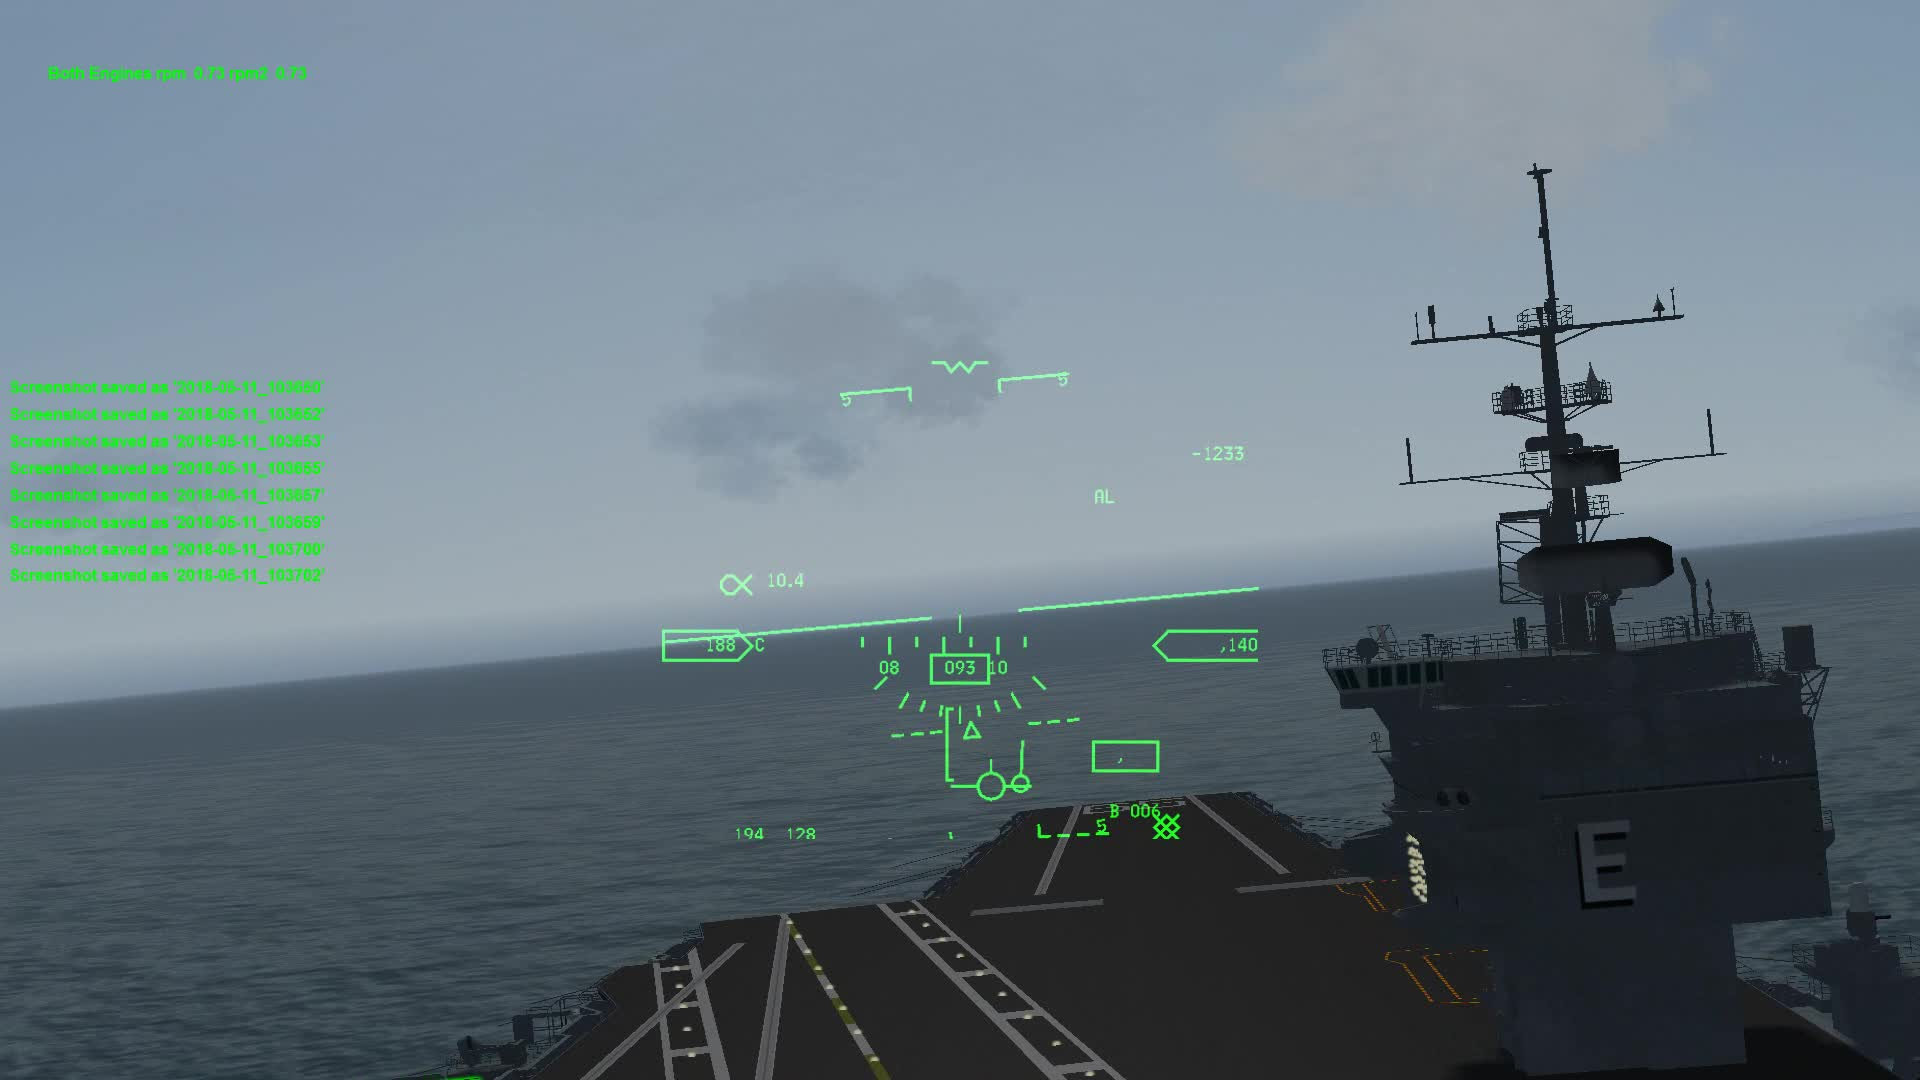speed vector: (957, 752, 1058, 804)
